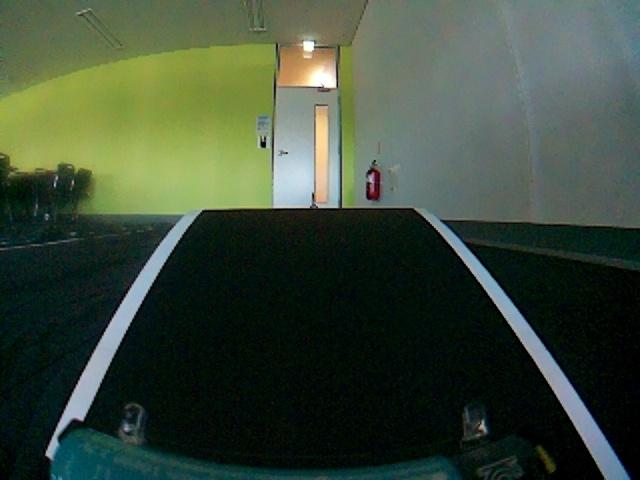hill_up: (37, 196, 603, 480)
